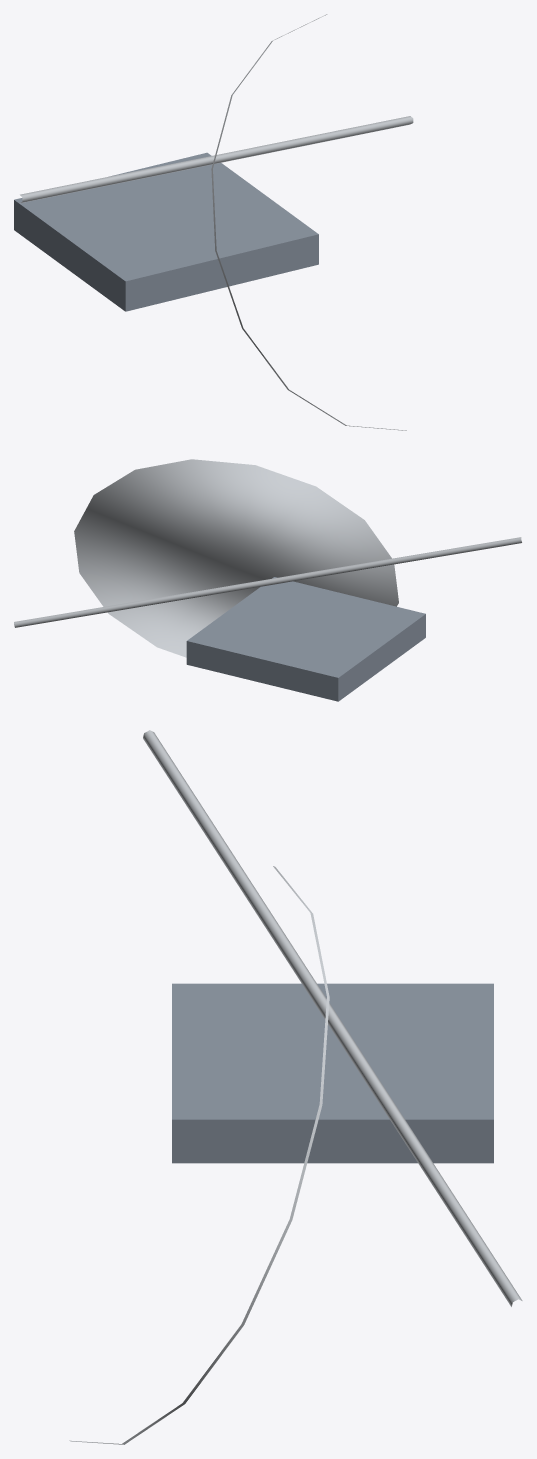
File: farm-windmill-wreck.glb
3 renders of one model, top to bottom at view 1: azimuth 30°, elevation 25°; view 2: azimuth 150°, elevation 25°; view 3: azimuth 270°, elevation 25°, orthographic. The views are drawn at different scales.
Parts seen in each view (by area): view 1: Root; view 2: Root; view 3: Root.
Part boxes in pixels (x1,y1,x2,y2): Root: (14, 14, 413, 430); Root: (14, 459, 521, 701); Root: (69, 730, 522, 1444).
Bounding box in the file's own units: 11.05 × 6.77 × 6.32.
